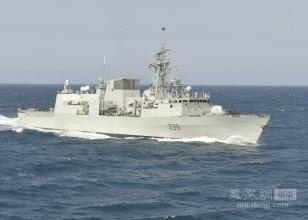warship: (14, 46, 272, 142)
